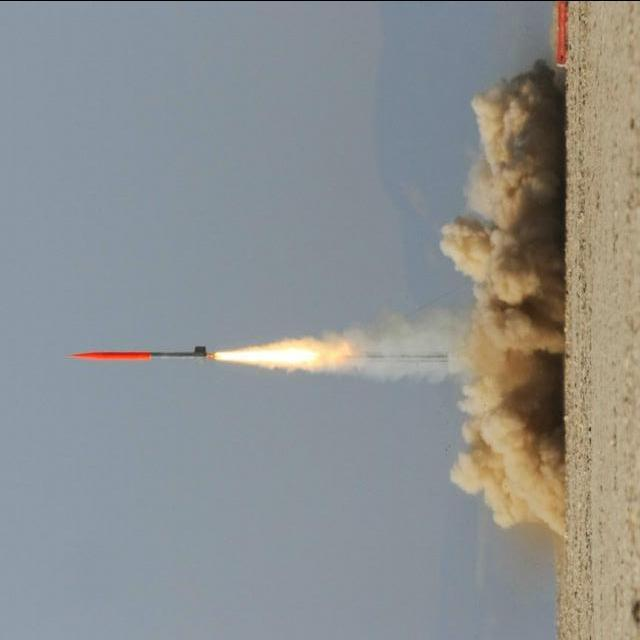missile: (71, 346, 214, 359)
